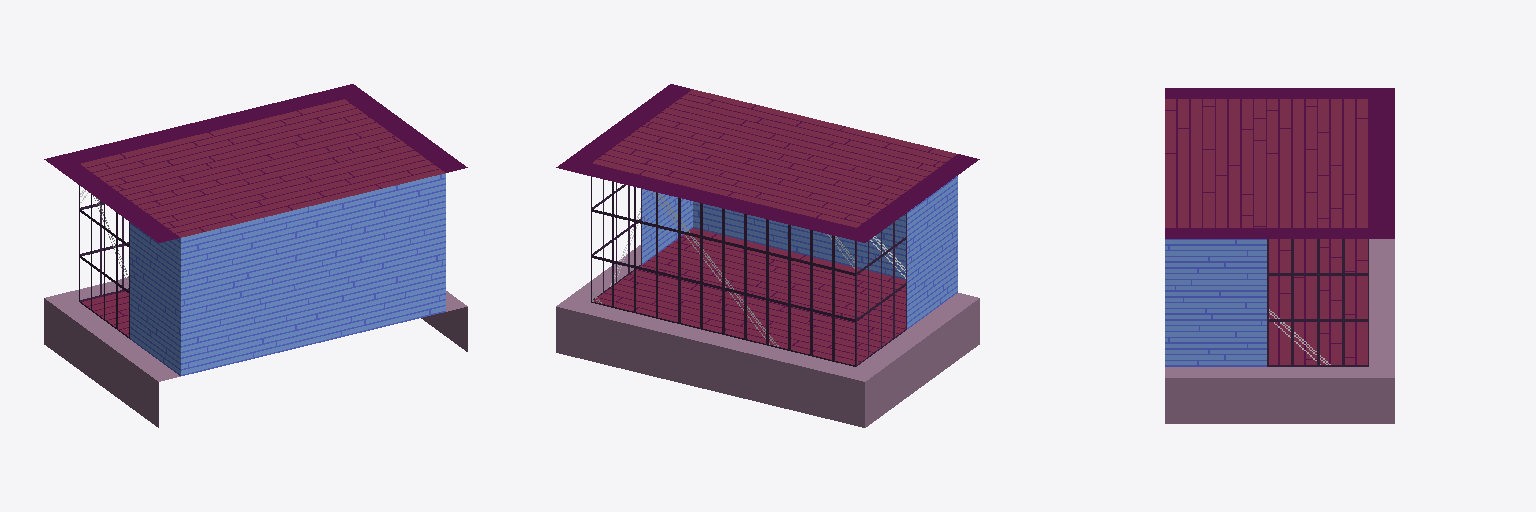
3 renders of one model, left to right at view 1: azimuth 30°, elevation 25°; view 2: azimuth 150°, elevation 25°; view 3: azimuth 270°, elevation 25°, orthographic.
Parts seen in each view (by area): view 1: Cube; view 2: Cube; view 3: Cube.
Boxes of the visible parts, box(x1,y1,x2,y2) form: Cube: box(44, 84, 467, 427); Cube: box(556, 84, 979, 427); Cube: box(1165, 88, 1394, 423).
Bounding box in the file's own units: 7 × 4 × 4.5.
1 materials, 1 textured.